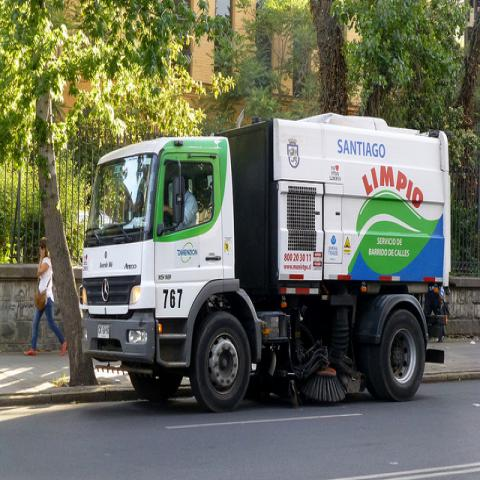truck: (79, 113, 454, 413)
